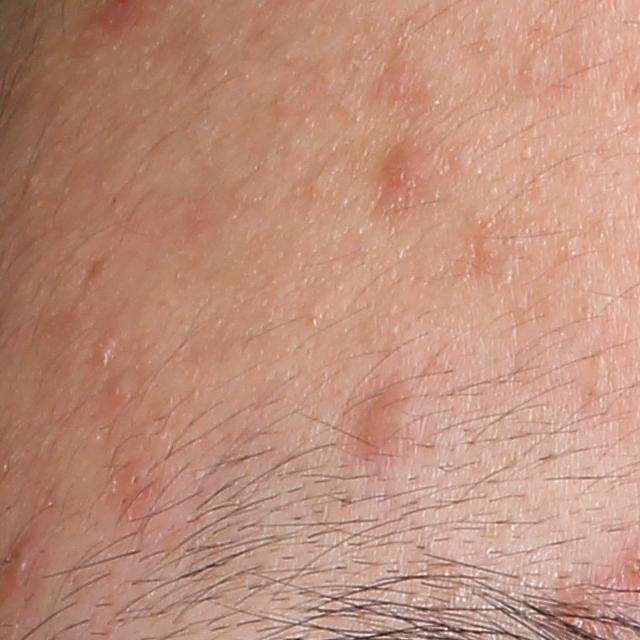comedo: (94, 338, 123, 365), (111, 376, 136, 403)
papule: (358, 390, 414, 460), (384, 151, 423, 199)
